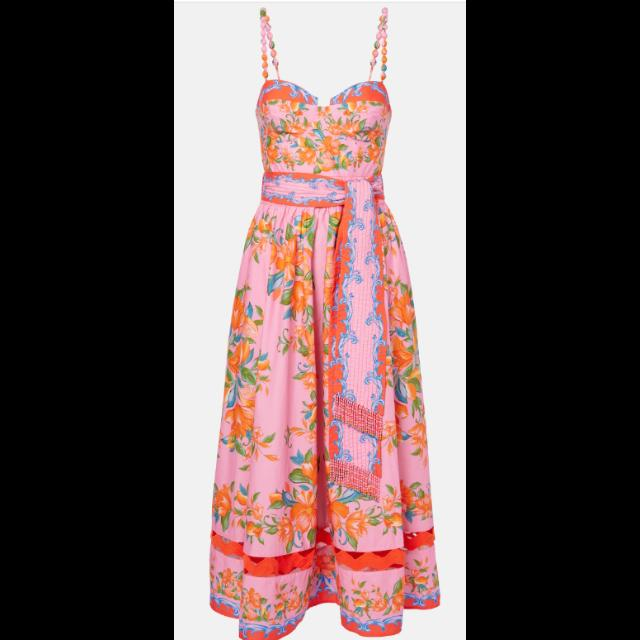dress: (216, 9, 438, 634)
